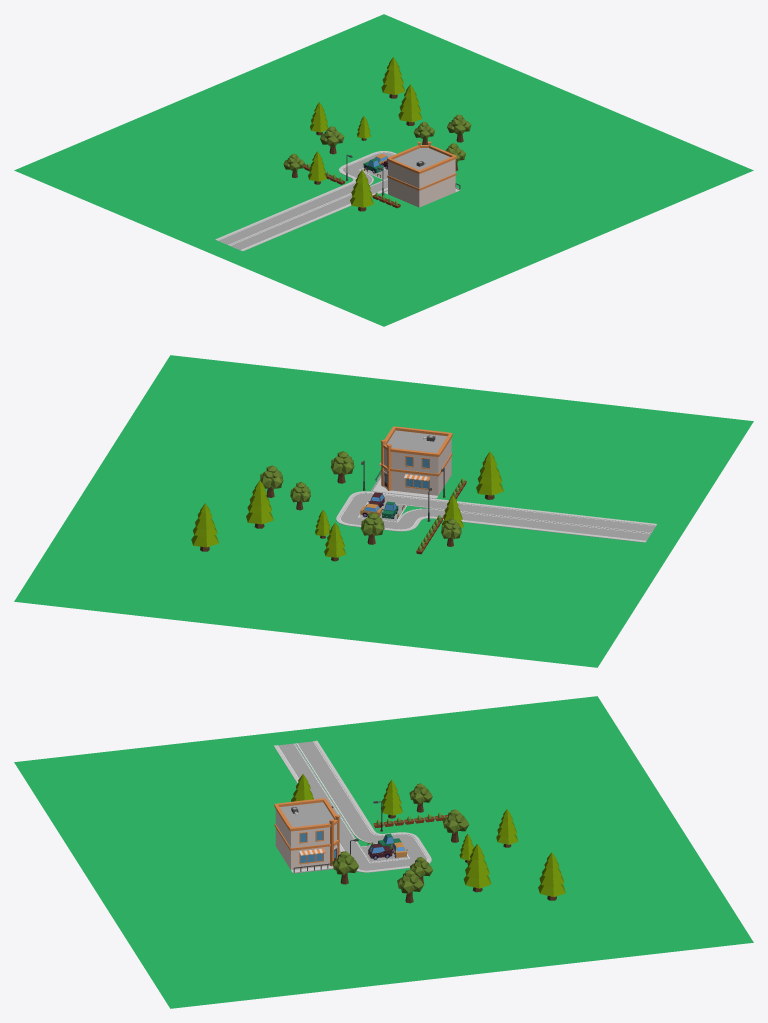
The model's file is parking_jam_2.gltf.
3 views of the same model, one above another, from view 1: azimuth 30°, elevation 25°; view 2: azimuth 150°, elevation 25°; view 3: azimuth 270°, elevation 25° (orthographic). The views are drawn at different scales.
Visible parts, largest first — view 1: grass, road-asphalt_mat, trees-tree01_mat, house-facade01_mat, trees-tree02_mat, road-board_mat, house-facade02_mat, house-asphalt_mat; view 2: grass, road-asphalt_mat, trees-tree01_mat, road-board_mat, trees-tree02_mat, house-facade01_mat, house-facade02_mat, house-asphalt_mat, road-lines_mat, trees-bark_mat; view 3: grass, road-asphalt_mat, trees-tree01_mat, trees-tree02_mat, house-facade01_mat, house-facade02_mat, road-board_mat, house-asphalt_mat, road-lines_mat.
Part boxes in pixels (x1=…): grass: x1=14, y1=14, x2=753, y2=326; road-asphalt_mat: x1=218, y1=152, x2=393, y2=249; trees-tree01_mat: x1=308, y1=57, x2=422, y2=207; house-facade01_mat: x1=388, y1=159, x2=455, y2=207; trees-tree02_mat: x1=283, y1=114, x2=471, y2=171; road-board_mat: x1=215, y1=151, x2=396, y2=251; house-facade02_mat: x1=387, y1=141, x2=456, y2=190; house-asphalt_mat: x1=393, y1=148, x2=450, y2=170; grass: x1=14, y1=355, x2=753, y2=667; road-asphalt_mat: x1=340, y1=493, x2=655, y2=540; trees-tree01_mat: x1=191, y1=451, x2=503, y2=557; road-board_mat: x1=336, y1=491, x2=656, y2=542; trees-tree02_mat: x1=260, y1=451, x2=461, y2=538; house-facade01_mat: x1=379, y1=438, x2=451, y2=495; house-facade02_mat: x1=379, y1=426, x2=452, y2=490; house-asphalt_mat: x1=386, y1=430, x2=447, y2=452; road-lines_mat: x1=340, y1=493, x2=655, y2=540; trees-bark_mat: x1=200, y1=473, x2=494, y2=561; grass: x1=14, y1=696, x2=753, y2=1008; road-asphalt_mat: x1=278, y1=741, x2=427, y2=870; trees-tree01_mat: x1=291, y1=774, x2=565, y2=896; trees-tree02_mat: x1=332, y1=783, x2=469, y2=893; house-facade01_mat: x1=275, y1=809, x2=337, y2=870; house-facade02_mat: x1=274, y1=798, x2=340, y2=866; road-board_mat: x1=274, y1=740, x2=431, y2=872; house-asphalt_mat: x1=280, y1=802, x2=334, y2=827; road-lines_mat: x1=277, y1=741, x2=427, y2=870.
Bounding box in the file's own units: 2449 × 180 × 2449.
19 materials, 1 textured.
